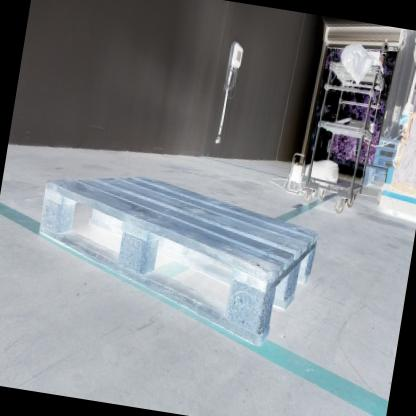BoxFace: (37, 173, 320, 354)
